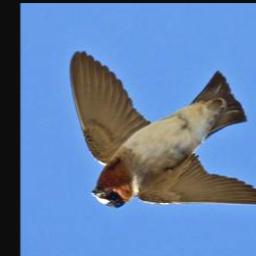Swallow: (67, 49, 256, 209)
